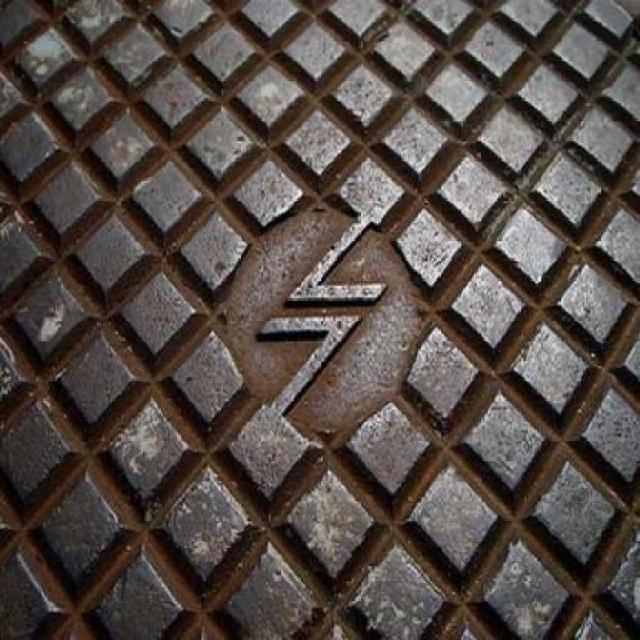Manhole: (6, 8, 632, 632)
